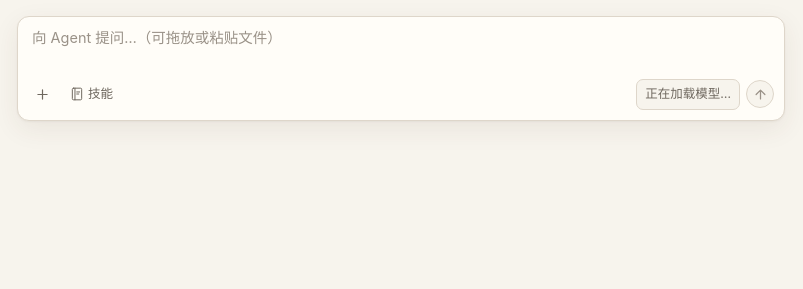
it: Composer / skills popup › opens on a leading '/' and lists only enabled skills from the effective menu
Type "/" into the text box with placeholder "向 Agent 提问…（可拖放或粘贴文件）" at [401, 47], box x1=18 y1=27 x2=784 y2=67
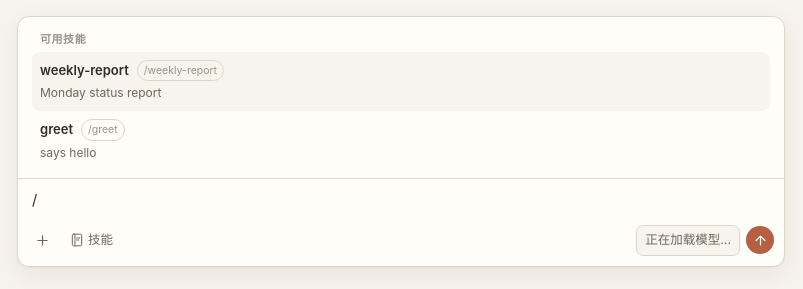
Expected: the list with test id "skill-popup" is shown, x1=18 y1=27 x2=784 y2=179
Expected: the text "/weekly-report" is shown, x1=137 y1=60 x2=224 y2=81
Expected: the text "/greet" is shown, x1=81 y1=119 x2=125 y2=141
